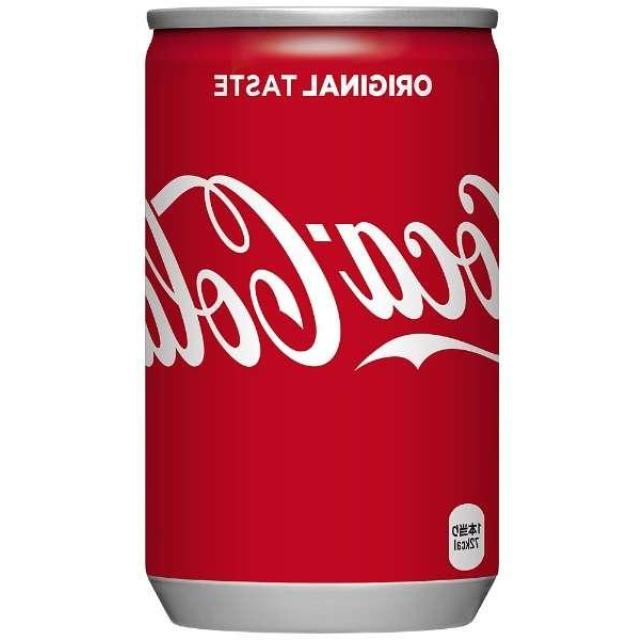coca-cola: (138, 3, 504, 633)
